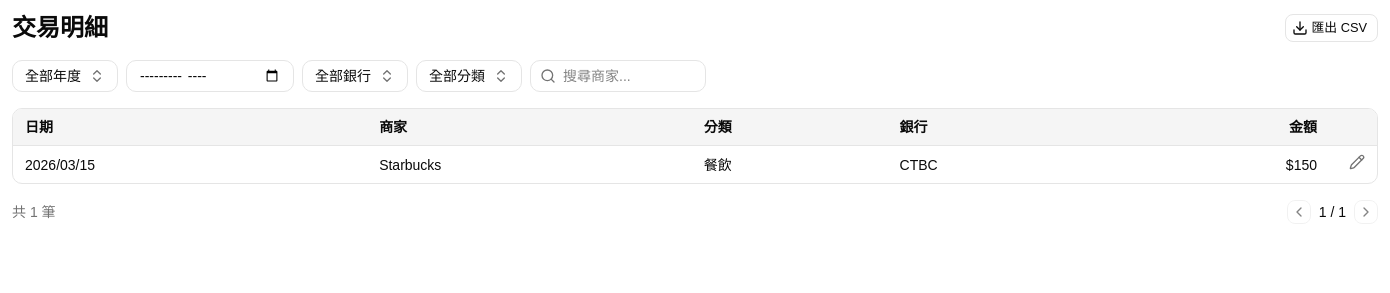
it: TransactionsPage CSV export › falls back to default copy when the rejection is not an Error
The width and height of the screenshot is (1390, 293).
Check: the link "Starbucks" is shown, box top-left (379, 156), bottom-right (441, 172)
Click the button "匯出 CSV" at (1331,28), box top-left (1284, 14), bottom-right (1378, 42)
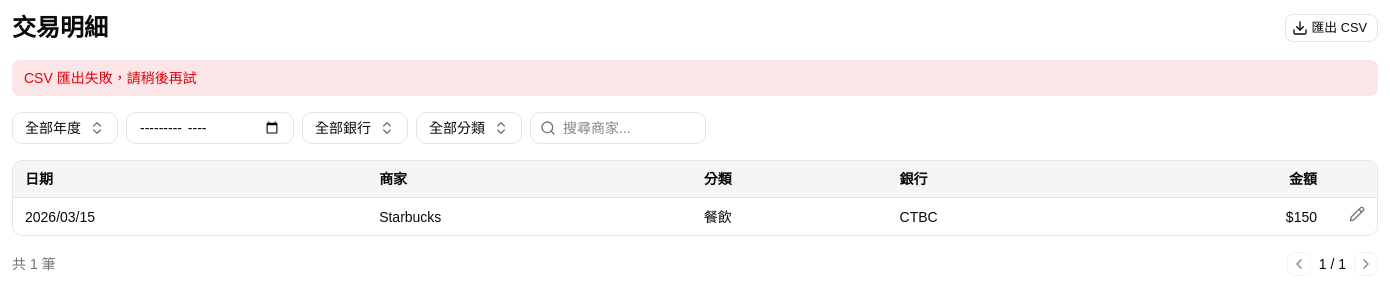
Check: the message reads "CSV 匯出失敗，請稍後再試", box top-left (24, 70), bottom-right (197, 86)
